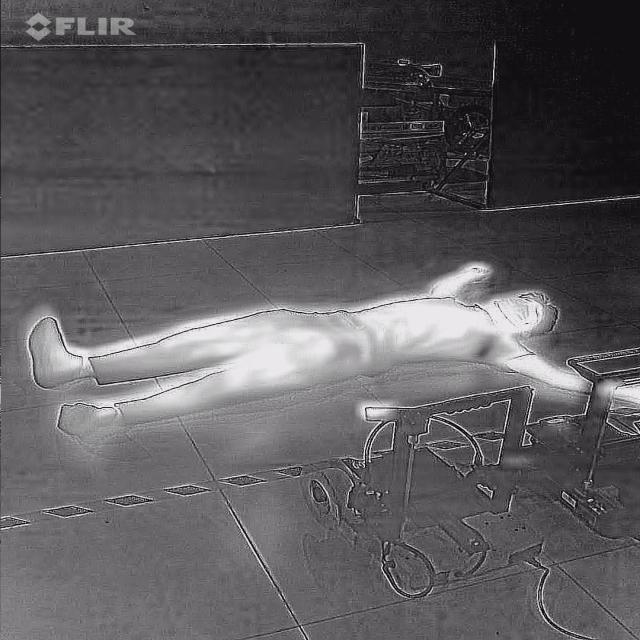Victim: (20, 256, 640, 438)
